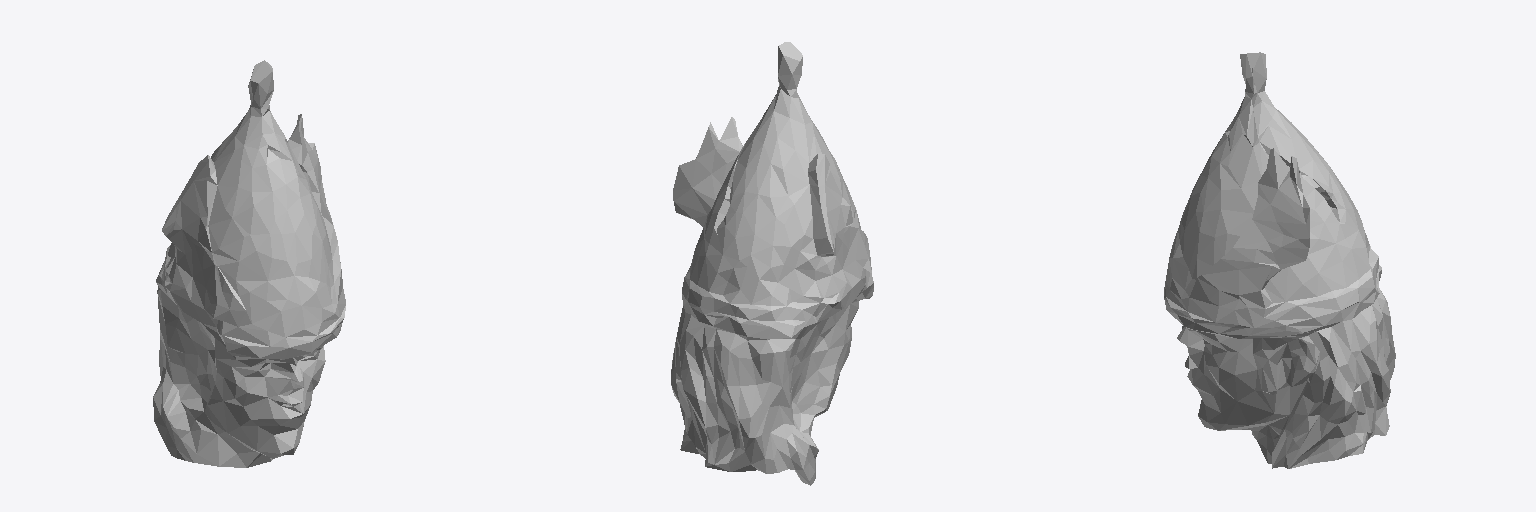
File: FK_Head.obj
3 renders of one model, left to right at view 1: azimuth 30°, elevation 25°; view 2: azimuth 150°, elevation 25°; view 3: azimuth 270°, elevation 25°, orthographic.
Parts seen in each view (by area): view 1: FK_Damaged_low; view 2: FK_Damaged_low; view 3: FK_Damaged_low.
Boxes of the visible parts, <box> form: FK_Damaged_low: <box>153,60,345,467</box>; FK_Damaged_low: <box>671,42,873,485</box>; FK_Damaged_low: <box>1164,52,1395,468</box>.
Bounding box in the file's own units: 0.2121 × 0.5142 × 0.2658.